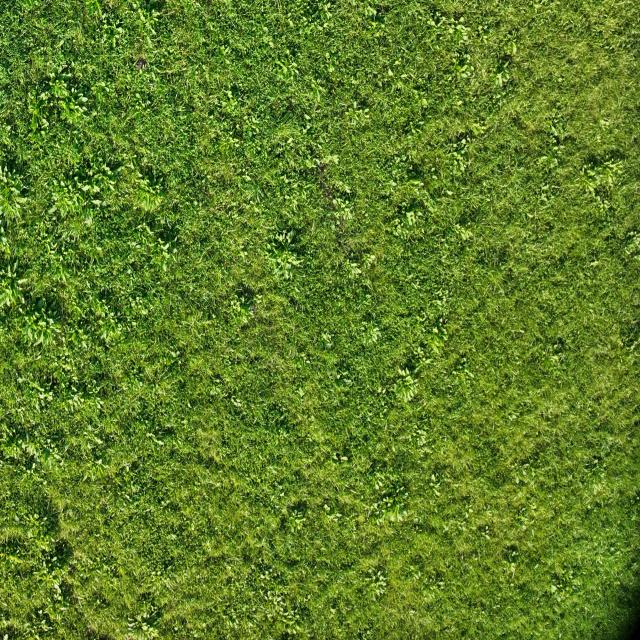rumex: (96, 424, 212, 562), (503, 460, 549, 557), (93, 2, 154, 62), (251, 574, 307, 636), (289, 1, 342, 55), (48, 169, 94, 224), (262, 235, 306, 288), (51, 72, 92, 126), (32, 559, 70, 616), (76, 159, 118, 210), (76, 432, 116, 485), (369, 475, 412, 521), (335, 98, 373, 146), (0, 160, 27, 226), (117, 292, 153, 340), (130, 168, 166, 215), (487, 42, 517, 94), (126, 602, 164, 640), (120, 80, 154, 122), (59, 380, 94, 420), (540, 105, 568, 154), (327, 193, 357, 237), (544, 564, 577, 604), (575, 161, 606, 203), (28, 82, 53, 134), (479, 267, 512, 306), (450, 40, 478, 84), (217, 85, 245, 128), (86, 77, 115, 118), (448, 132, 476, 171), (225, 295, 255, 330), (15, 436, 48, 466), (392, 208, 421, 242), (2, 274, 26, 315), (96, 312, 122, 349), (359, 7, 386, 42), (20, 318, 48, 348), (617, 317, 640, 353), (360, 318, 384, 348), (621, 227, 640, 259), (365, 568, 387, 594), (310, 155, 336, 175), (285, 509, 306, 533), (426, 330, 446, 354), (274, 56, 294, 80), (48, 80, 68, 103), (454, 225, 476, 245), (396, 366, 416, 388), (308, 81, 324, 108), (244, 113, 261, 137), (400, 383, 418, 404), (347, 260, 364, 281), (550, 337, 568, 355), (85, 0, 102, 18), (504, 546, 520, 565), (324, 508, 342, 524), (331, 450, 350, 465), (320, 330, 334, 349), (158, 244, 172, 262), (69, 328, 83, 346), (363, 253, 378, 269), (470, 121, 484, 138), (506, 562, 518, 580), (275, 230, 290, 244), (363, 3, 376, 19), (405, 210, 416, 228), (100, 327, 111, 344), (432, 12, 444, 27), (30, 113, 39, 133), (326, 154, 339, 166), (236, 248, 247, 262), (407, 179, 422, 189), (538, 156, 550, 168), (219, 45, 230, 58), (321, 9, 331, 23), (494, 74, 504, 88), (431, 486, 442, 498), (305, 158, 317, 169), (456, 23, 468, 34), (160, 257, 168, 273), (31, 105, 40, 119), (395, 224, 404, 238), (231, 398, 242, 409), (548, 354, 560, 364), (374, 478, 384, 490), (112, 164, 124, 174), (36, 298, 44, 312), (599, 118, 610, 128), (539, 194, 549, 205), (47, 204, 58, 214), (16, 277, 28, 286), (510, 42, 518, 55), (428, 18, 438, 28), (226, 88, 234, 100), (287, 230, 295, 242), (526, 211, 536, 220), (322, 21, 331, 31), (447, 25, 456, 35), (82, 184, 92, 193), (445, 189, 455, 198), (297, 387, 305, 398), (590, 259, 601, 267), (432, 326, 440, 337), (116, 26, 124, 37), (508, 413, 517, 422), (170, 350, 179, 359), (393, 58, 402, 67), (304, 113, 313, 122), (95, 437, 104, 446), (430, 472, 438, 482), (287, 18, 295, 28), (286, 136, 294, 146), (17, 376, 26, 384), (482, 34, 490, 43), (111, 36, 117, 48), (421, 98, 428, 108), (387, 68, 394, 78), (39, 92, 47, 100), (127, 620, 135, 628), (88, 168, 94, 178), (514, 474, 520, 484), (136, 171, 143, 179), (484, 533, 491, 541), (608, 44, 616, 51), (142, 610, 148, 619)
